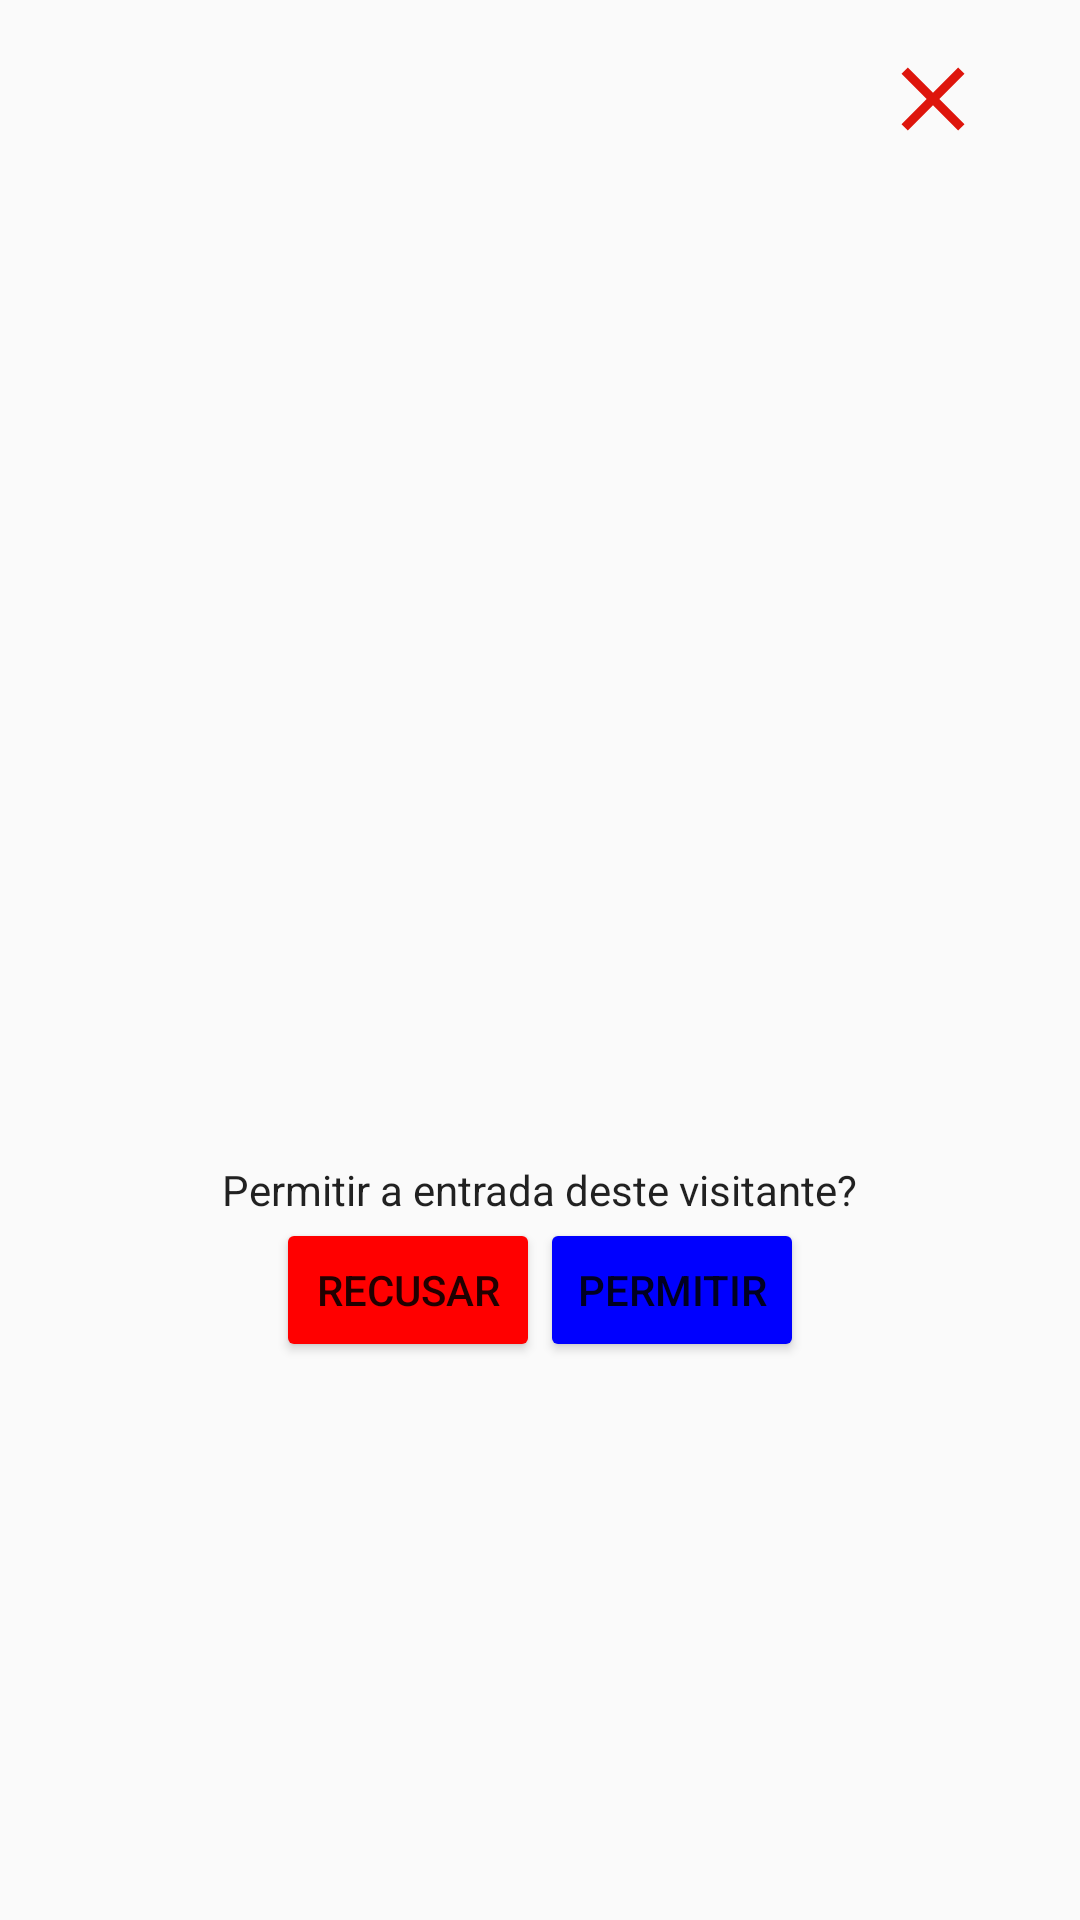

Locate icon controls on the screen. Image size 1080x1920, boxes as (x1, y1, x2, y2).
close: (901, 67, 965, 131)
